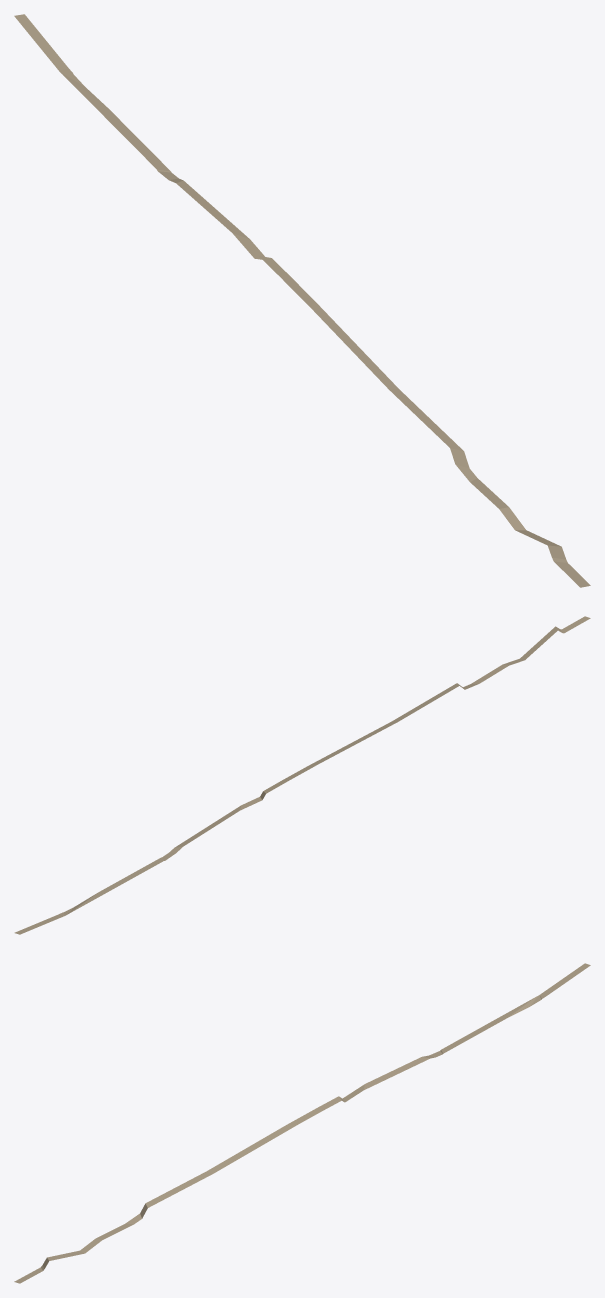
Rendered from farm_2_16_track.glb.
The picture shows the model from 3 angles, top to bottom: view 1: azimuth 30°, elevation 25°; view 2: azimuth 150°, elevation 25°; view 3: azimuth 330°, elevation 25°; orthographic projection. The views are drawn at different scales.
Visible parts, largest first — view 1: geometry_0; view 2: geometry_0; view 3: geometry_0.
Part boxes in pixels (left/top/right/bottom): geometry_0: left=14, top=14, right=590, bottom=587; geometry_0: left=14, top=616, right=590, bottom=934; geometry_0: left=14, top=963, right=590, bottom=1283.
Size of the model in its own units: 55.48 by 6.27 by 412.
